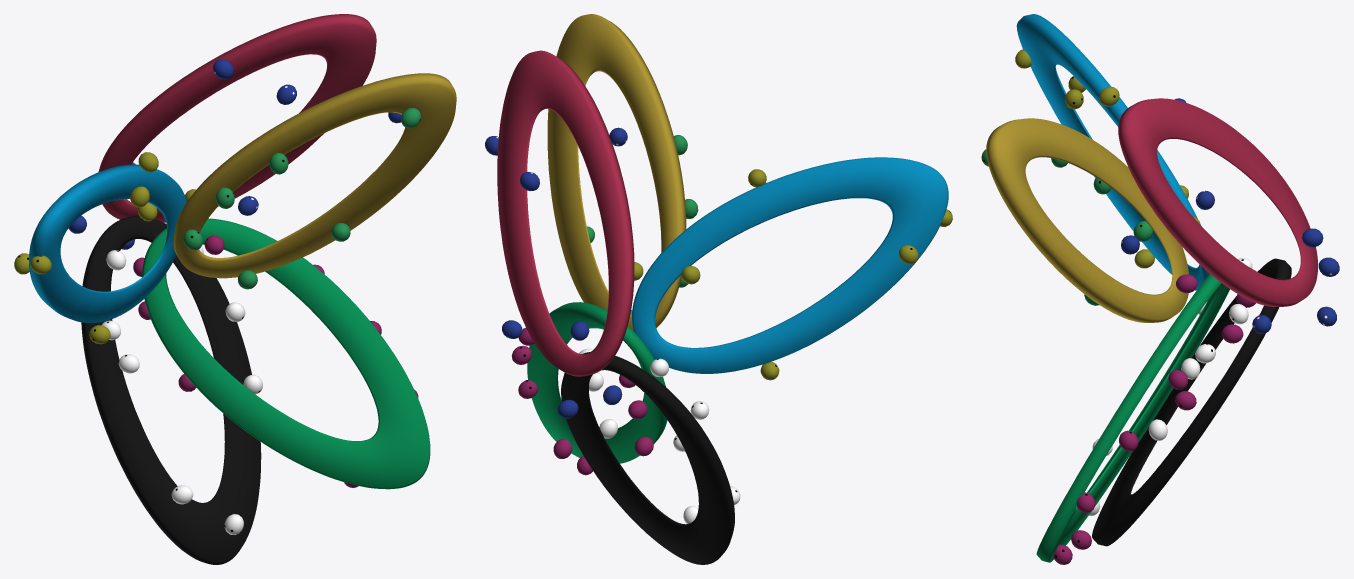
The model's file is 06_Olympic_Scene_Ring_Characters.glb.
3 renders of one model, left to right at view 1: azimuth 30°, elevation 25°; view 2: azimuth 150°, elevation 25°; view 3: azimuth 270°, elevation 25°, orthographic. The views are drawn at different scales.
Parts seen in each view (by area): view 1: 06_Logo_Olympic_Ring_004, 06_Logo_Olympic_Ring, 06_Logo_Olympic_Ring_002, 06_Logo_Olympic_Ring_003, 06_Logo_Olympic_Ring_001; view 2: 06_Logo_Olympic_Ring_001, 06_Logo_Olympic_Ring_003, 06_Logo_Olympic_Ring_002, 06_Logo_Olympic_Ring, 06_Logo_Olympic_Ring_004; view 3: 06_Logo_Olympic_Ring_003, 06_Logo_Olympic_Ring_002, 06_Logo_Olympic_Ring_004, 06_Logo_Olympic_Ring, 06_Logo_Olympic_Ring_001.
Boxes of the visible parts, x1,y1,x2,y2 form: 06_Logo_Olympic_Ring_004: [142, 218, 430, 489]; 06_Logo_Olympic_Ring: [81, 216, 261, 564]; 06_Logo_Olympic_Ring_002: [173, 73, 456, 278]; 06_Logo_Olympic_Ring_003: [98, 14, 376, 222]; 06_Logo_Olympic_Ring_001: [29, 164, 186, 323]; 06_Logo_Olympic_Ring_001: [632, 157, 948, 373]; 06_Logo_Olympic_Ring_003: [497, 50, 634, 376]; 06_Logo_Olympic_Ring_002: [547, 14, 686, 330]; 06_Logo_Olympic_Ring: [561, 352, 734, 564]; 06_Logo_Olympic_Ring_004: [527, 302, 667, 463]; 06_Logo_Olympic_Ring_003: [1118, 98, 1317, 306]; 06_Logo_Olympic_Ring_002: [986, 118, 1188, 322]; 06_Logo_Olympic_Ring_004: [1036, 274, 1229, 562]; 06_Logo_Olympic_Ring: [1092, 258, 1291, 546]; 06_Logo_Olympic_Ring_001: [1016, 14, 1209, 290].
Size of the model in its own units: 37.44 by 42.15 by 27.27.
